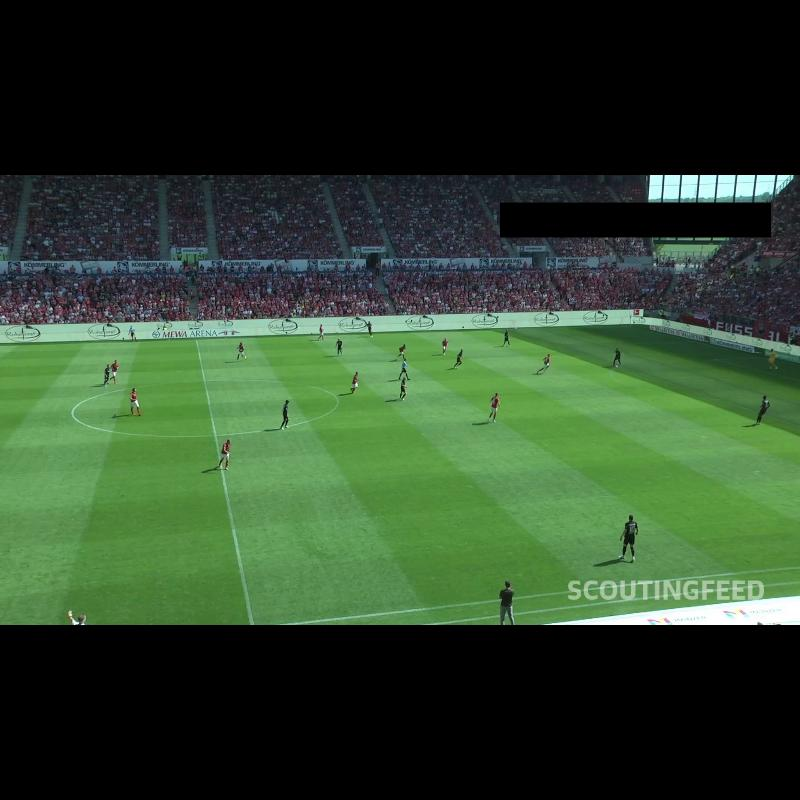cross_recipient_zone: (555, 342, 800, 428)
crossing_player_zone: (690, 436, 800, 491), (444, 326, 695, 349)
pitch: (0, 327, 800, 625)
